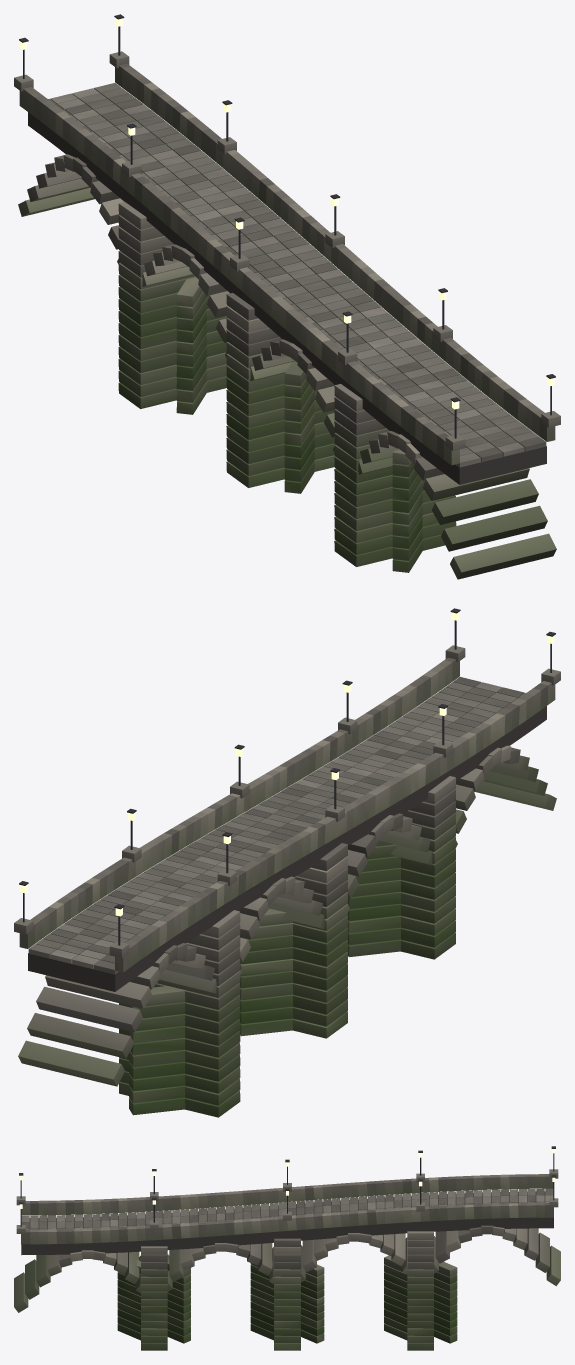
Rendered from bridge.glb.
3 views of the same model, one above another, from view 1: azimuth 30°, elevation 25°; view 2: azimuth 150°, elevation 25°; view 3: azimuth 270°, elevation 25° (orthographic). The views are drawn at different scales.
Visible parts, largest first — view 1: bridge; view 2: bridge; view 3: bridge.
Part boxes in pixels (box(x1,y1,x2,y2)): bridge: box(14, 14, 560, 579); bridge: box(14, 608, 560, 1117); bridge: box(14, 1146, 560, 1350).
Size of the model in its own units: 5.2 by 12.98 by 36.97.
